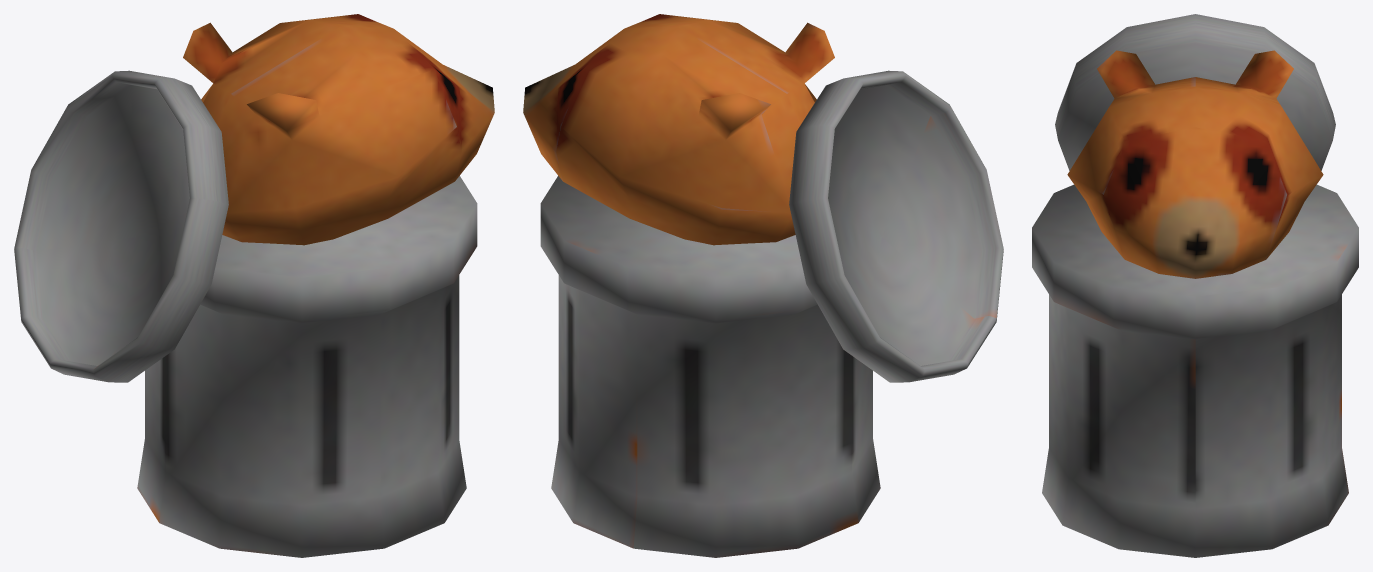
Rendered from Craig.glb.
3 views of the same model, side by side, from view 1: azimuth 30°, elevation 25°; view 2: azimuth 150°, elevation 25°; view 3: azimuth 270°, elevation 25° (orthographic). The views are drawn at different scales.
Visible parts, largest first — view 1: Craig; view 2: Craig; view 3: Craig.
Part boxes in pixels (x1,y1,x2,y2): Craig: (14,14,494,557); Craig: (523,14,1003,557); Craig: (1032,14,1358,557).
Bounding box in the file's own units: 1.65 × 1.61 × 1.13.
1 material, 1 textured.
